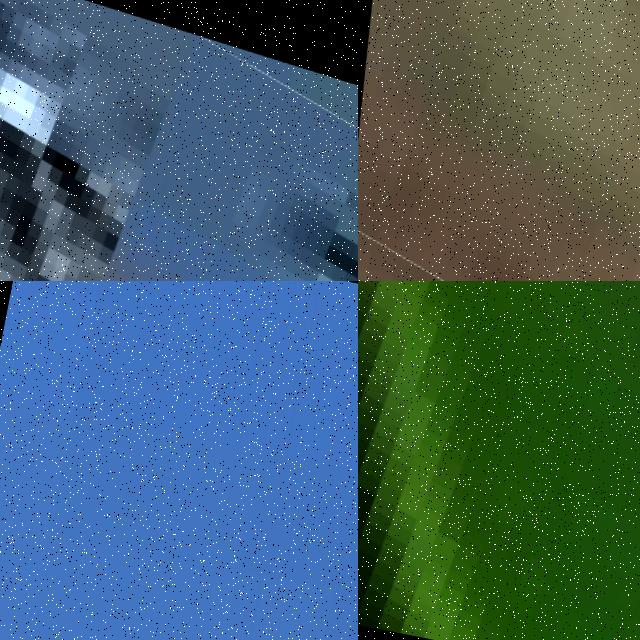0: (0, 0, 358, 281)
drone: (358, 281, 640, 640), (358, 0, 640, 281)
